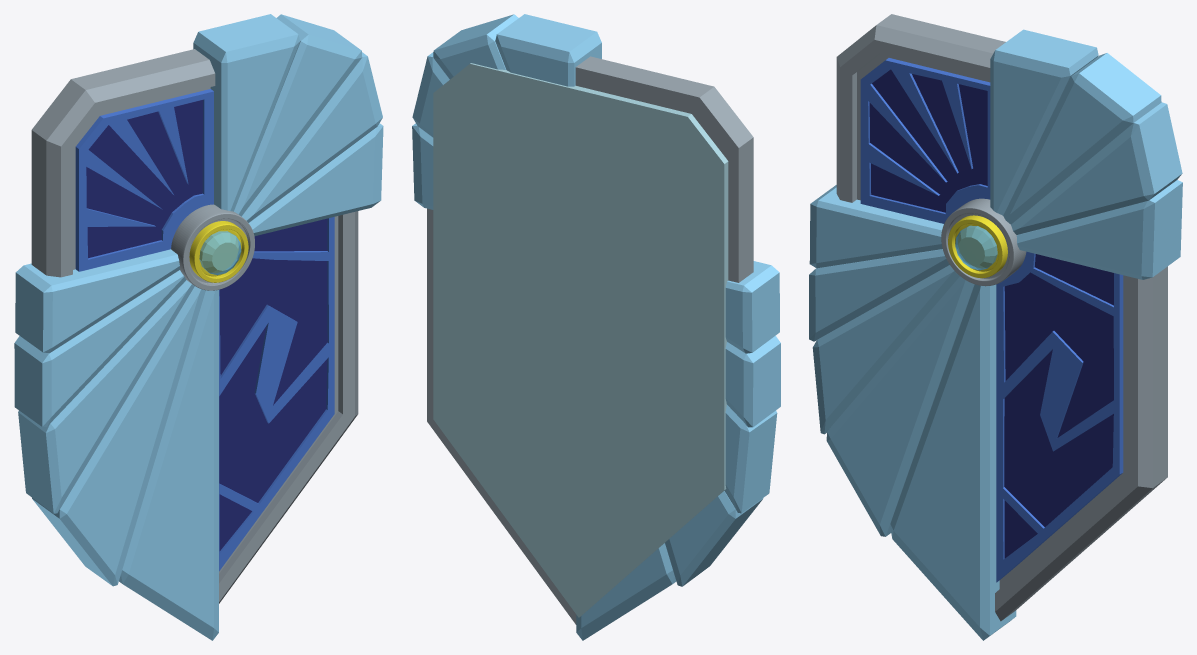
Rendered from Nix.glb.
3 views of the same model, side by side, from view 1: azimuth 30°, elevation 25°; view 2: azimuth 150°, elevation 25°; view 3: azimuth 330°, elevation 25° (orthographic).
Visible parts, largest first — view 1: outer, B5, iner Bas, B4, 1, Embed Top, B3, Embed 2, B1, Embed 3, B2, 2 (+7 smaller); view 2: Base_Back, outer, 1, B3, B1, B2, B4, B5, 2, 4, 3; view 3: outer, B5, iner Bas, B4, Embed Top, 1, 2, Embed 2, 3, Embed 3, 4, B3 (+7 smaller).
Part boxes in pixels (box(x1,y1,x2,y2)): outer: box(31, 49, 358, 603); B5: box(119, 290, 218, 640); iner Bas: box(75, 89, 334, 571); B4: box(32, 286, 205, 586); 1: box(193, 14, 299, 211); Embed Top: box(86, 100, 202, 258); B3: box(18, 280, 194, 513); Embed 2: box(219, 326, 327, 502); B1: box(15, 249, 179, 353); Embed 3: box(219, 258, 327, 405); B2: box(14, 270, 186, 426); 2: box(234, 14, 362, 216); Base_Back: box(433, 63, 728, 617); outer: box(427, 56, 753, 624); 1: box(495, 14, 601, 86); B3: box(724, 405, 777, 513); B1: box(725, 261, 779, 353); B2: box(725, 336, 780, 427); B4: box(665, 491, 763, 586); B5: box(576, 543, 676, 640); 2: box(433, 14, 518, 79); 4: box(412, 123, 433, 209); 3: box(412, 52, 449, 137); outer: box(836, 14, 1167, 621); B5: box(890, 284, 1016, 640); iner Bas: box(860, 58, 1123, 582); B4: box(826, 276, 974, 536); Embed Top: box(869, 69, 987, 212); 1: box(990, 29, 1098, 215); 2: box(1003, 53, 1161, 224); Embed 2: box(1004, 349, 1113, 526); 3: box(1011, 102, 1182, 234); Embed 3: box(1004, 272, 1113, 437); 4: box(1016, 180, 1182, 279); B3: box(812, 265, 959, 434).
Bounding box in the file's own units: 4.32 × 7.1 × 0.9166.
